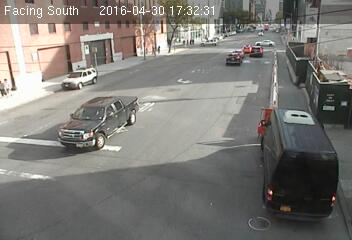neg: (222, 49, 241, 74), (153, 63, 167, 81)
pos: (154, 42, 163, 54)
